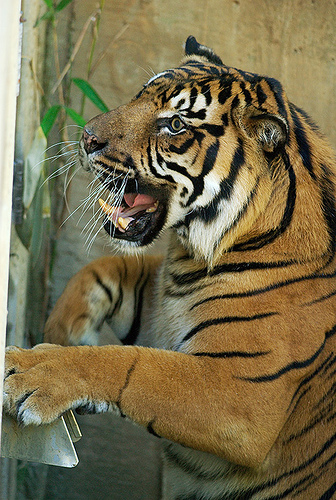Tigre: (67, 23, 331, 487)
